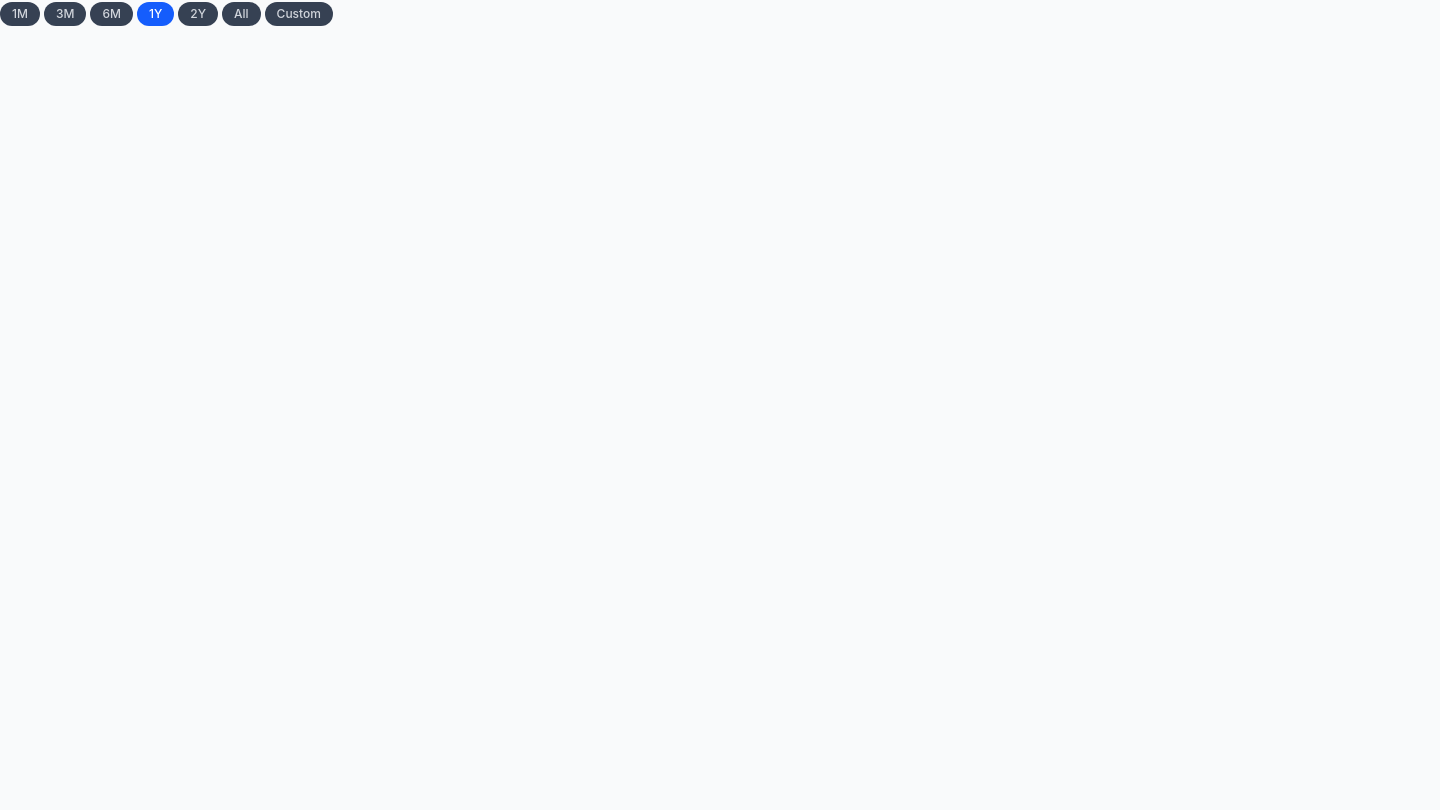
Test: NetWorthRangeControls › disables Apply until both From and To are set
The width and height of the screenshot is (1440, 810).
Click the button "Custom" at (299, 14), box [265, 2, 333, 26]
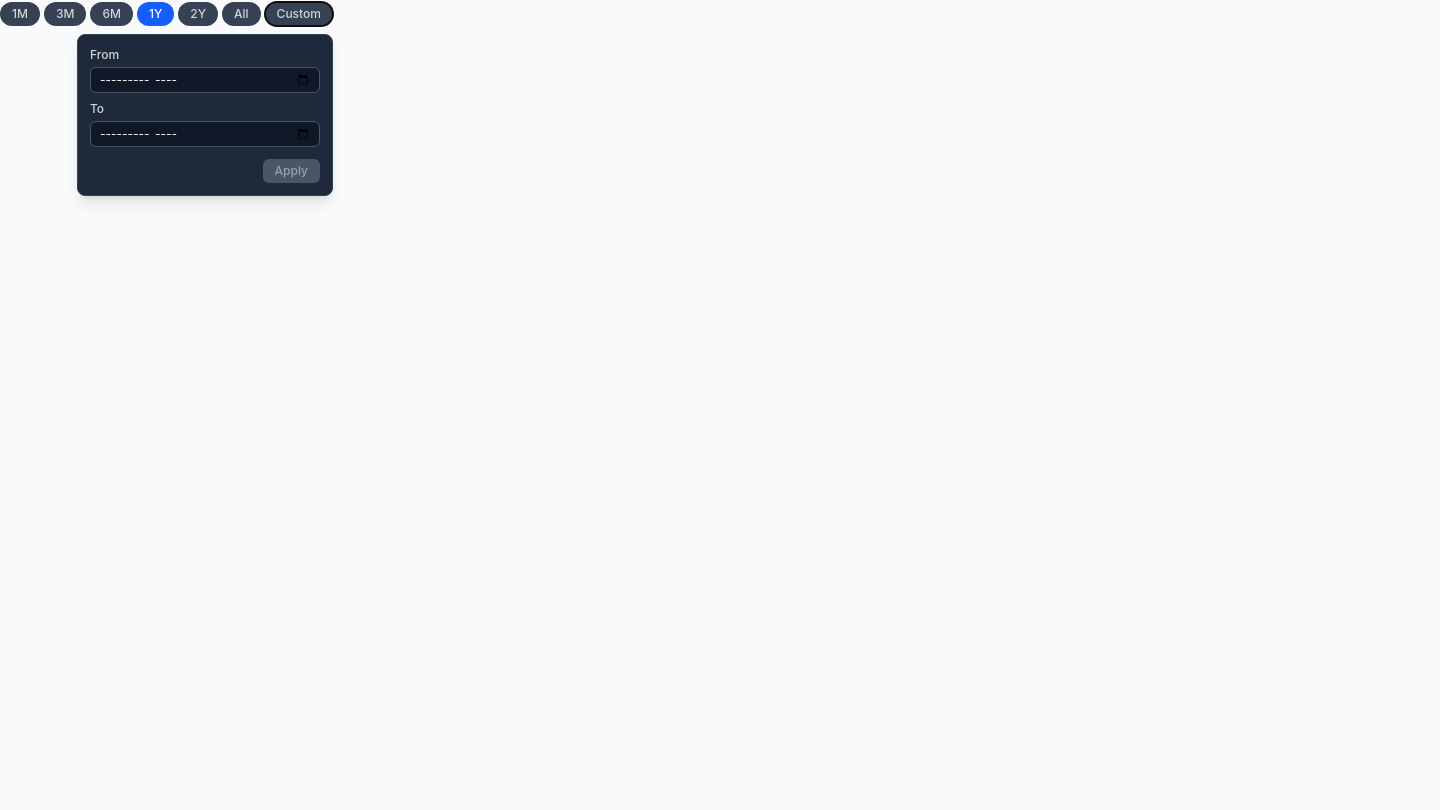
Expected: the button "Apply" is disabled, [263, 159, 320, 183]
Type "2025-01" into the field labelled "From" at (205, 80), box [90, 67, 320, 93]
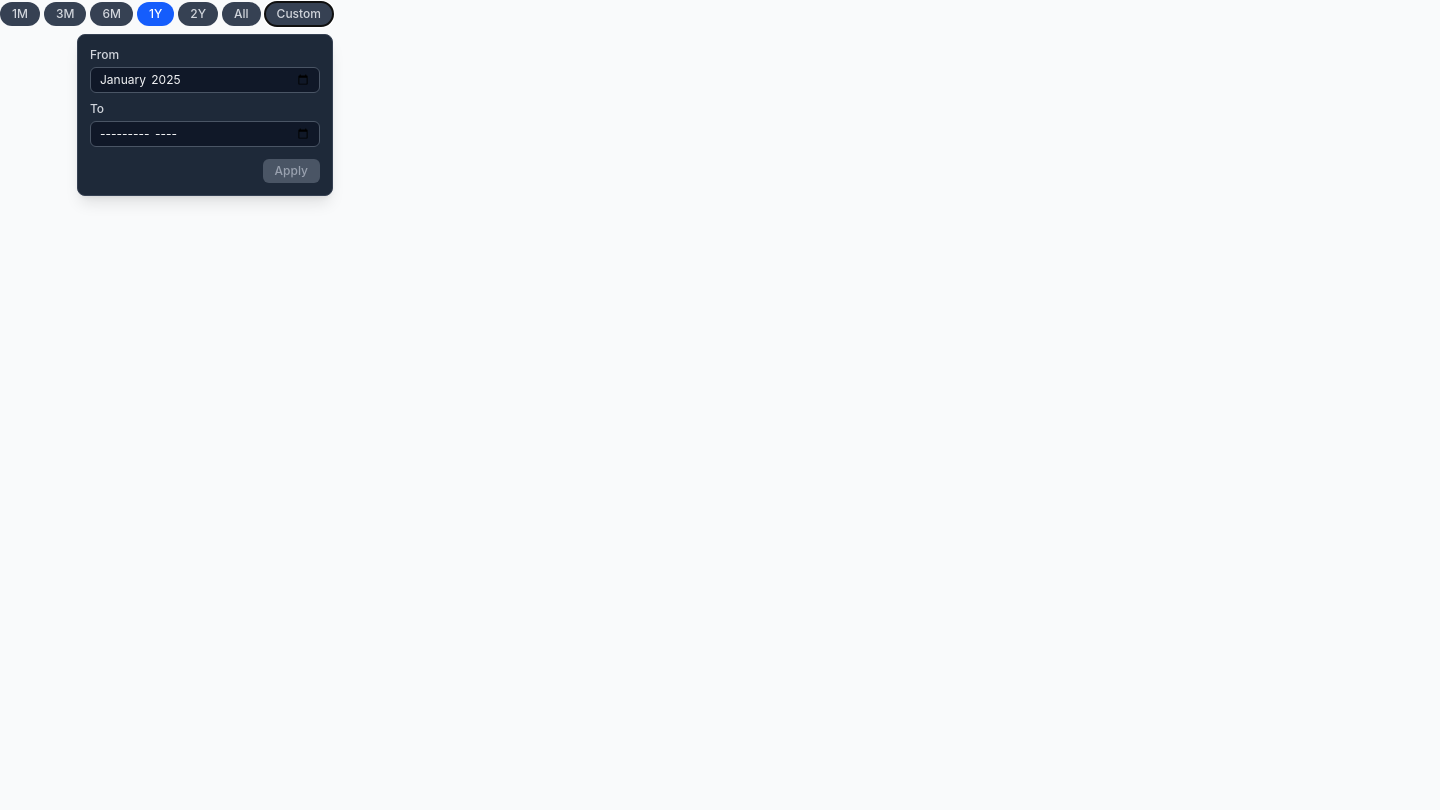
Expected: the button "Apply" is disabled, [263, 159, 320, 183]
Type "2025-06" into the field labelled "To" at (205, 134), box [90, 121, 320, 147]
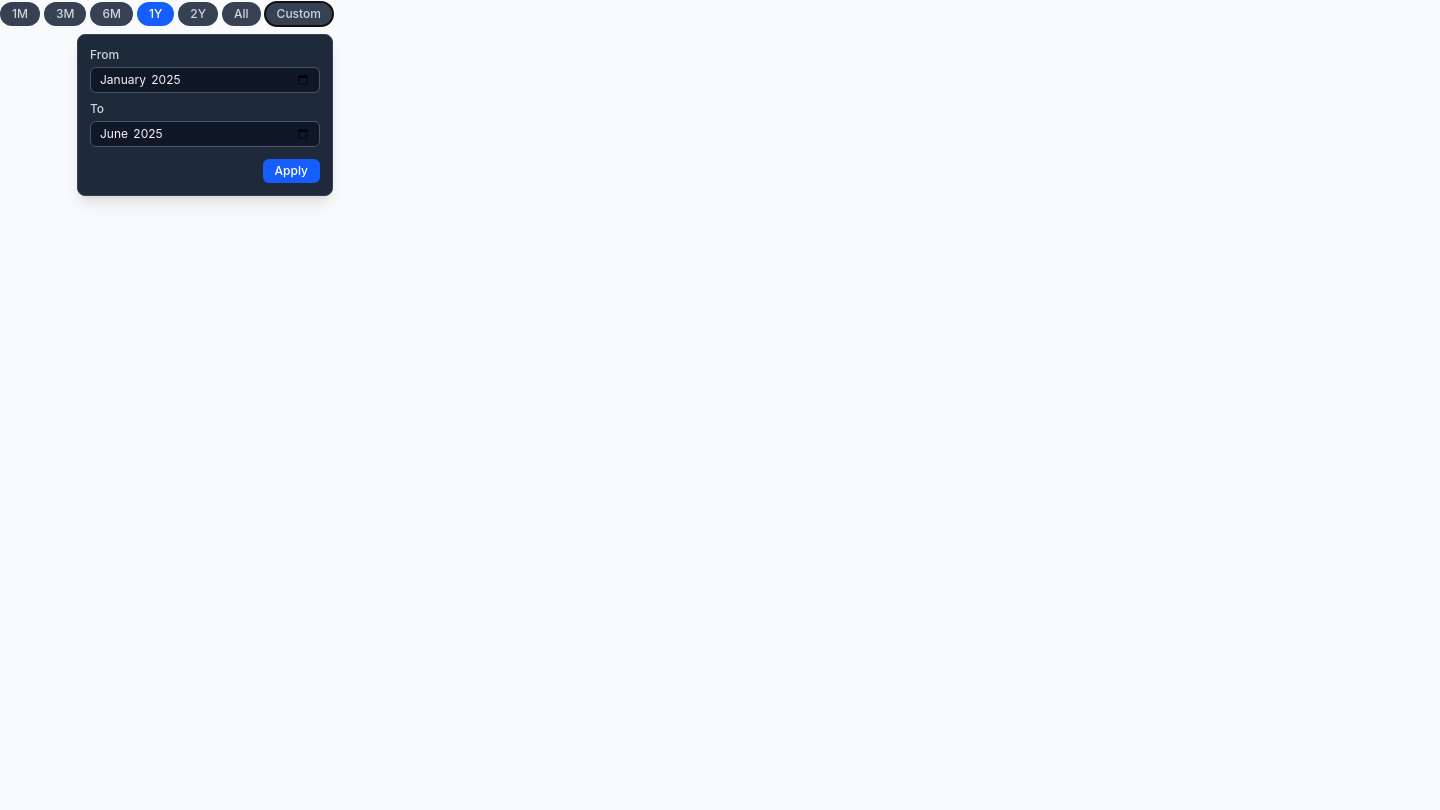
Expected: the button "Apply" is enabled, [263, 159, 320, 183]
